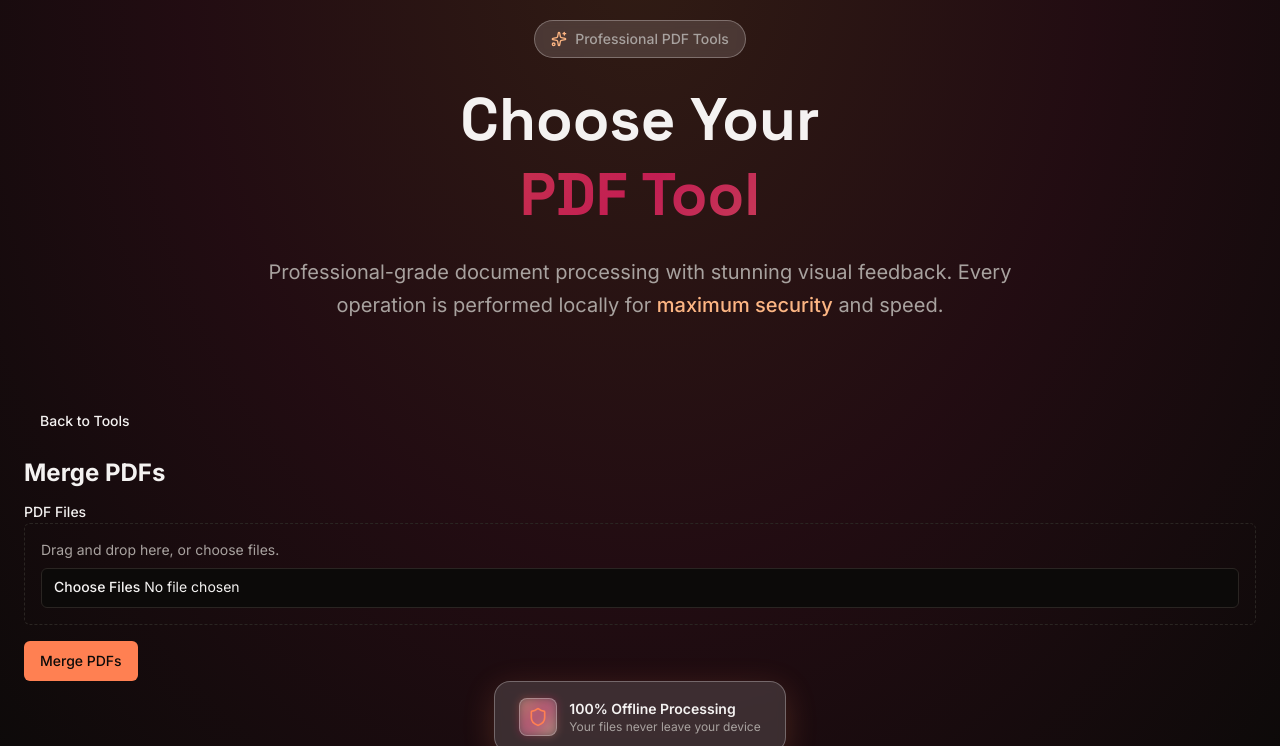
Test case: GlassDashboard (T-11 / P2-23 / F-23) › opens each tool from its card, switching category tabs as needed
Earlier steps of the test are not shown.
Later steps or results of the test are not shown.
Expected: the heading "Merge PDFs" is shown, left=24, top=458, right=165, bottom=487
Click the button "Back to Tools" at (85, 421), box left=24, top=401, right=146, bottom=441
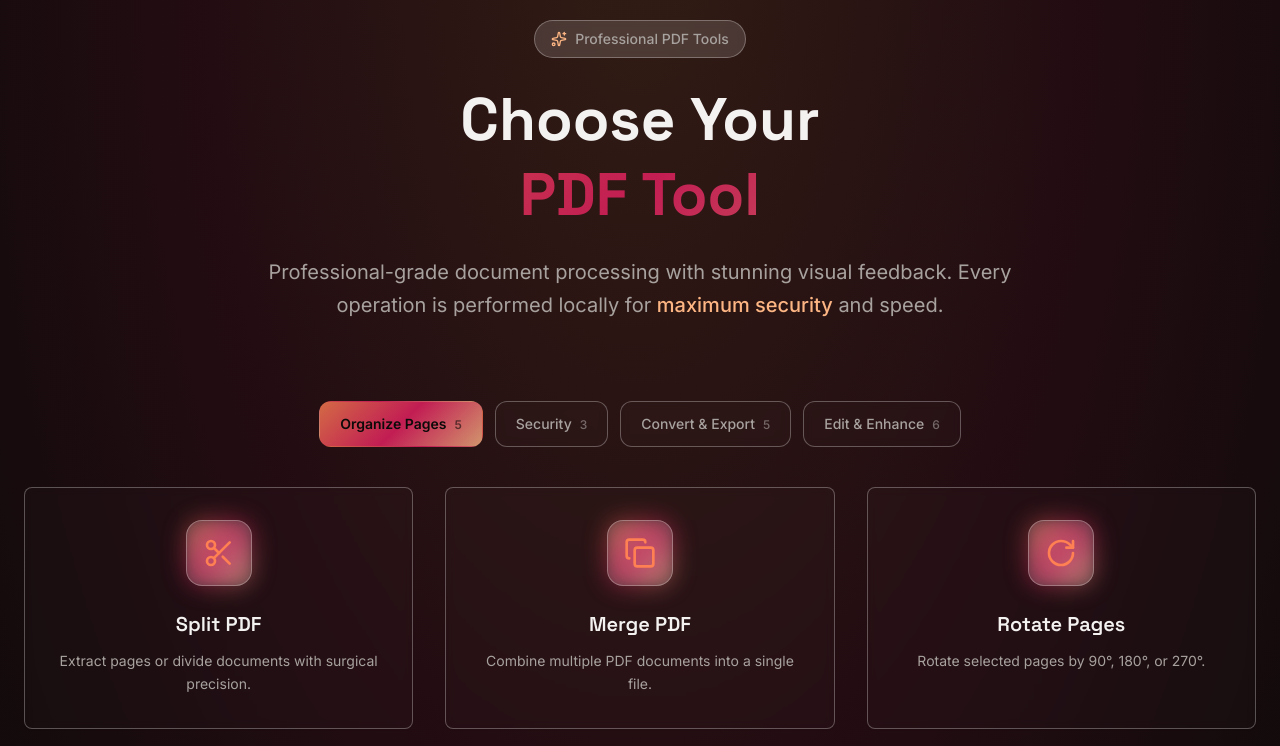
Click the button "Organize Pages5" at (401, 424), box left=319, top=401, right=483, bottom=447
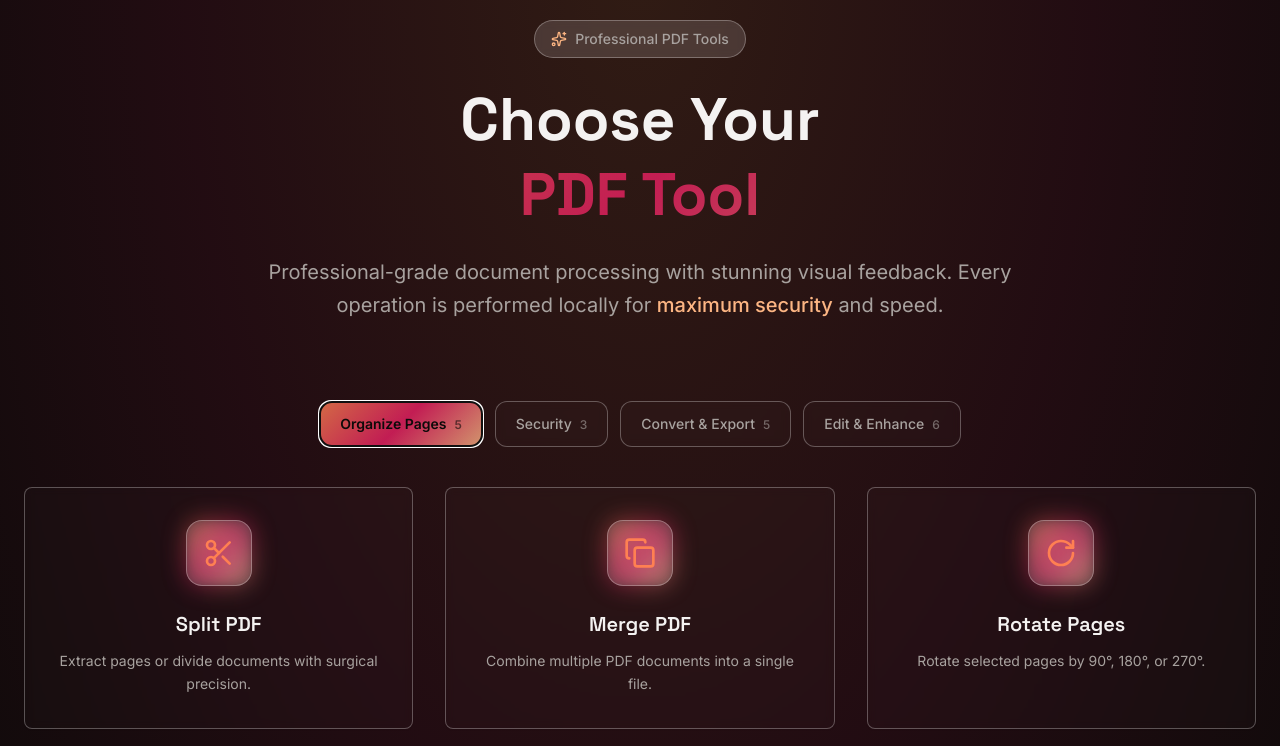
Click the button "Rotate Pages" at (1061, 553), box left=867, top=487, right=1256, bottom=728
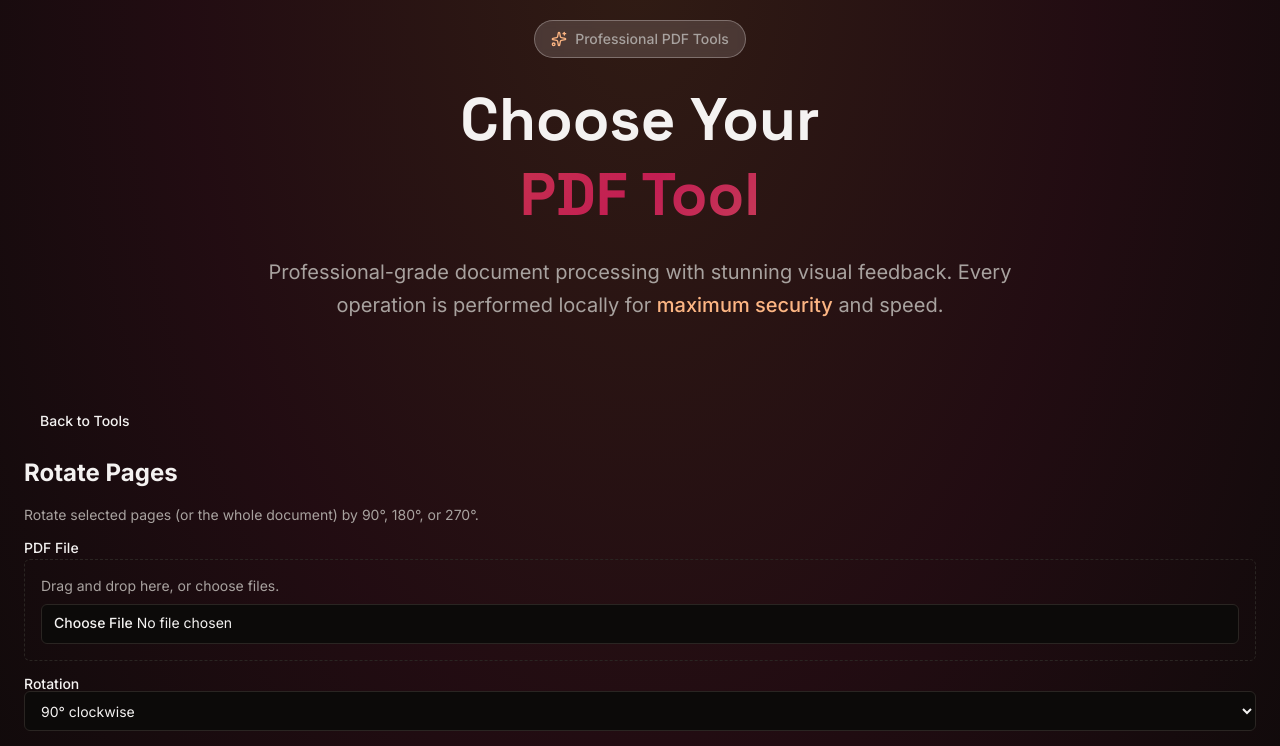
Now the button "Back to Tools" is shown
Now the heading "Rotate Pages" is shown, box left=24, top=458, right=178, bottom=487
Click the button "Back to Tools" at (85, 421), box left=24, top=401, right=146, bottom=441
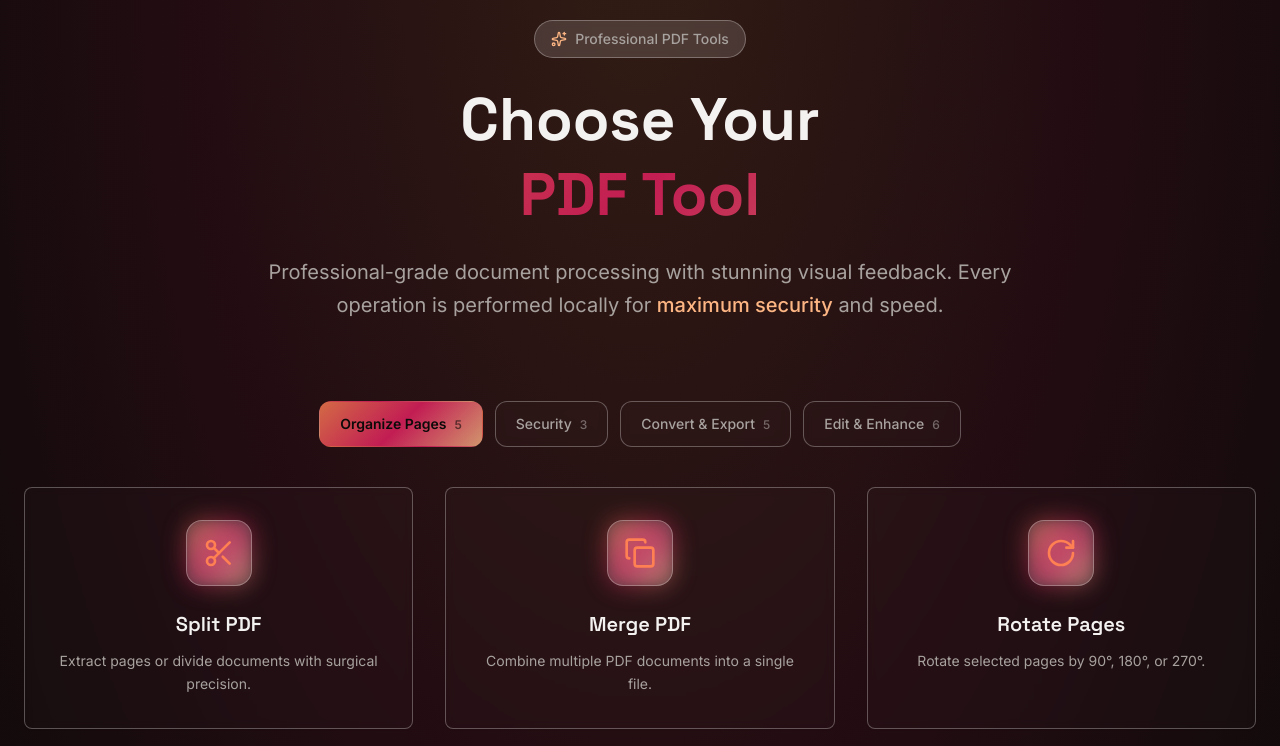
Click the button "Organize Pages5" at (401, 424), box left=319, top=401, right=483, bottom=447
(page scrolled)
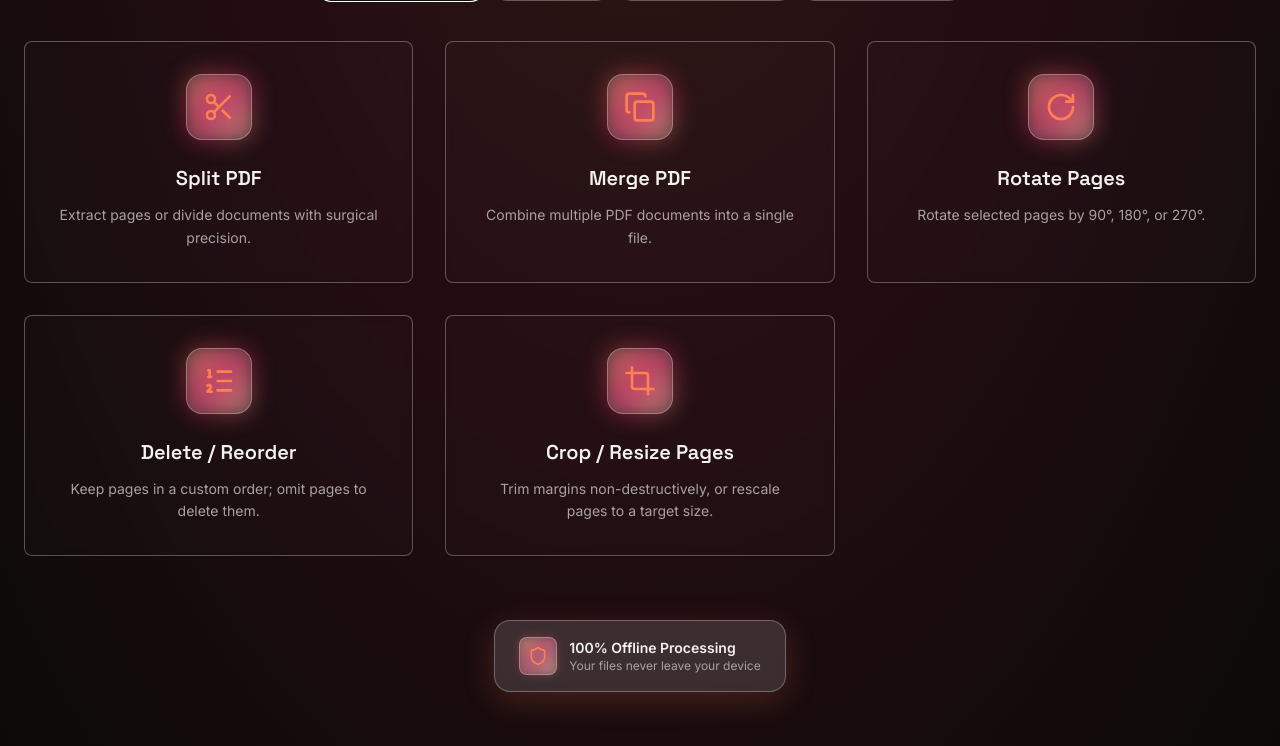
Click the button "Delete / Reorder" at (219, 380), box left=24, top=314, right=413, bottom=556
(page scrolled)
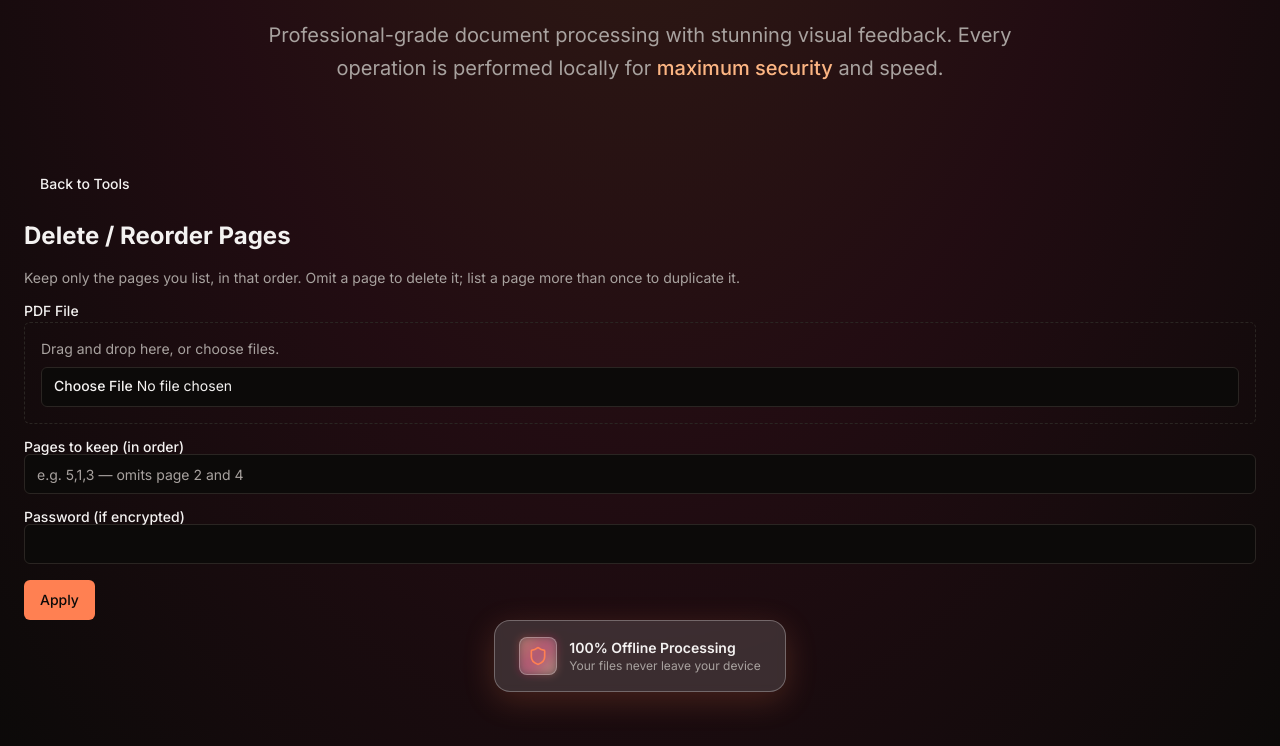
Now the button "Back to Tools" is shown, box left=24, top=164, right=146, bottom=204
Now the heading "Delete / Reorder Pages" is shown, box left=24, top=221, right=291, bottom=250
